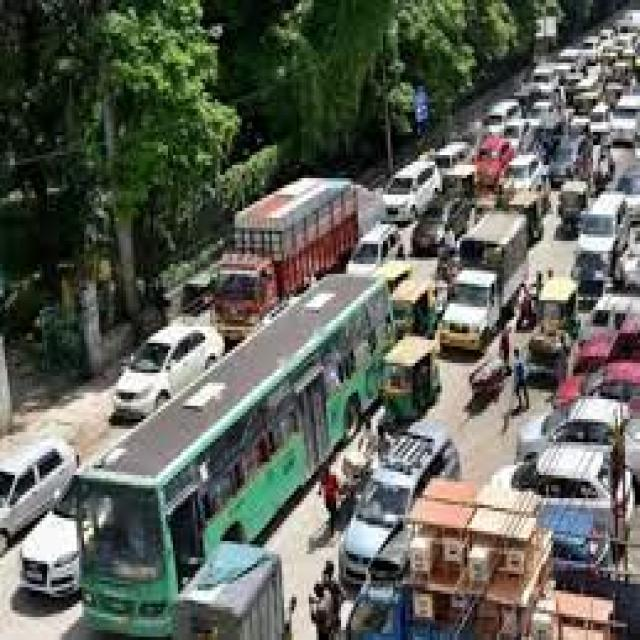bus: (77, 274, 390, 637)
car: (339, 422, 457, 584), (114, 327, 222, 419), (0, 439, 74, 548), (516, 396, 628, 459), (20, 475, 75, 597), (492, 442, 608, 498), (556, 360, 638, 416), (576, 191, 628, 271), (413, 191, 469, 257), (385, 162, 440, 221), (346, 224, 400, 274), (474, 135, 512, 191), (484, 99, 519, 135), (435, 142, 467, 168)
person: (514, 350, 526, 409), (321, 468, 336, 508)
three wheeler: (383, 336, 437, 419), (393, 280, 432, 336), (558, 181, 586, 238)
truck: (217, 178, 353, 340), (440, 211, 526, 350)
